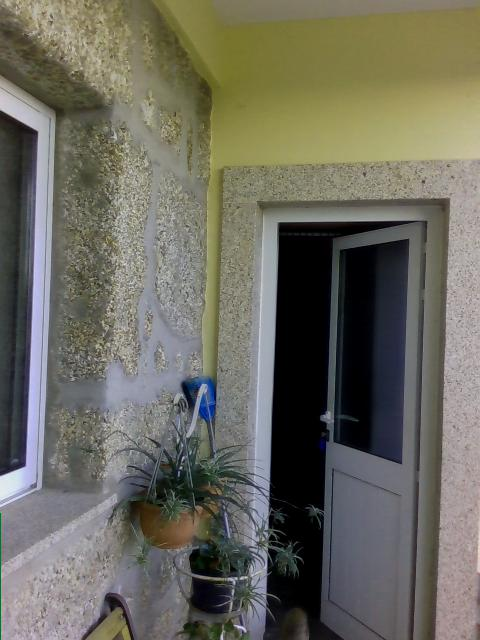semi_door: (246, 203, 445, 639)
